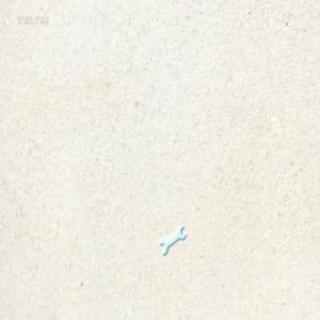Wrenchtrack_idkeyframe: (159, 226, 185, 257)
